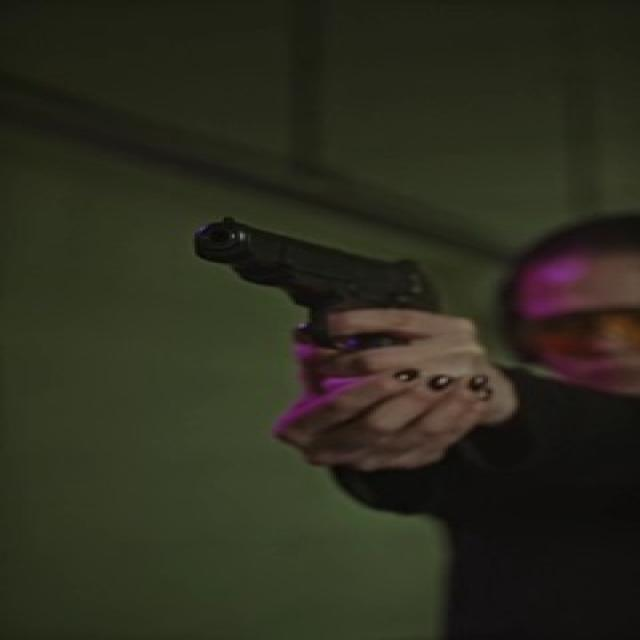Gun_Holder: (135, 205, 523, 486)
Person: (373, 179, 640, 640)
